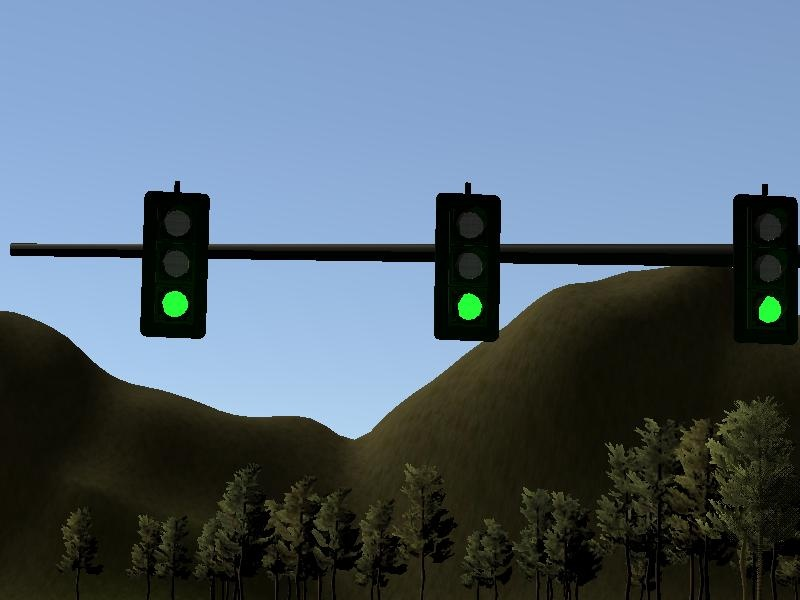GREEN: (141, 191, 207, 337), (434, 194, 500, 340), (734, 195, 800, 341)
